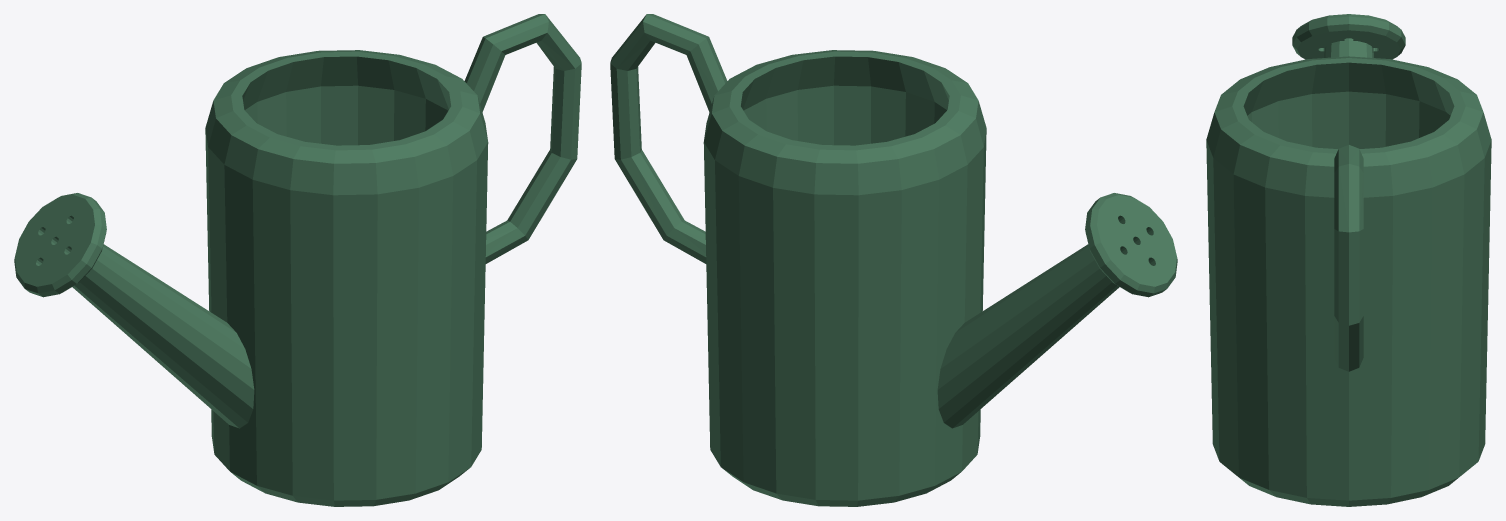
The model's file is watering_can.glb.
3 renders of one model, left to right at view 1: azimuth 30°, elevation 25°; view 2: azimuth 150°, elevation 25°; view 3: azimuth 270°, elevation 25°, orthographic.
Visible parts, largest first — view 1: Open watering can body; view 2: Open watering can body; view 3: Open watering can body.
Boxes of the visible parts, bbox=[...] form: Open watering can body: bbox=[14, 14, 581, 506]; Open watering can body: bbox=[610, 14, 1177, 506]; Open watering can body: bbox=[1206, 14, 1491, 506].
Bounding box in the file's own units: 0.4 × 0.27 × 0.18.
